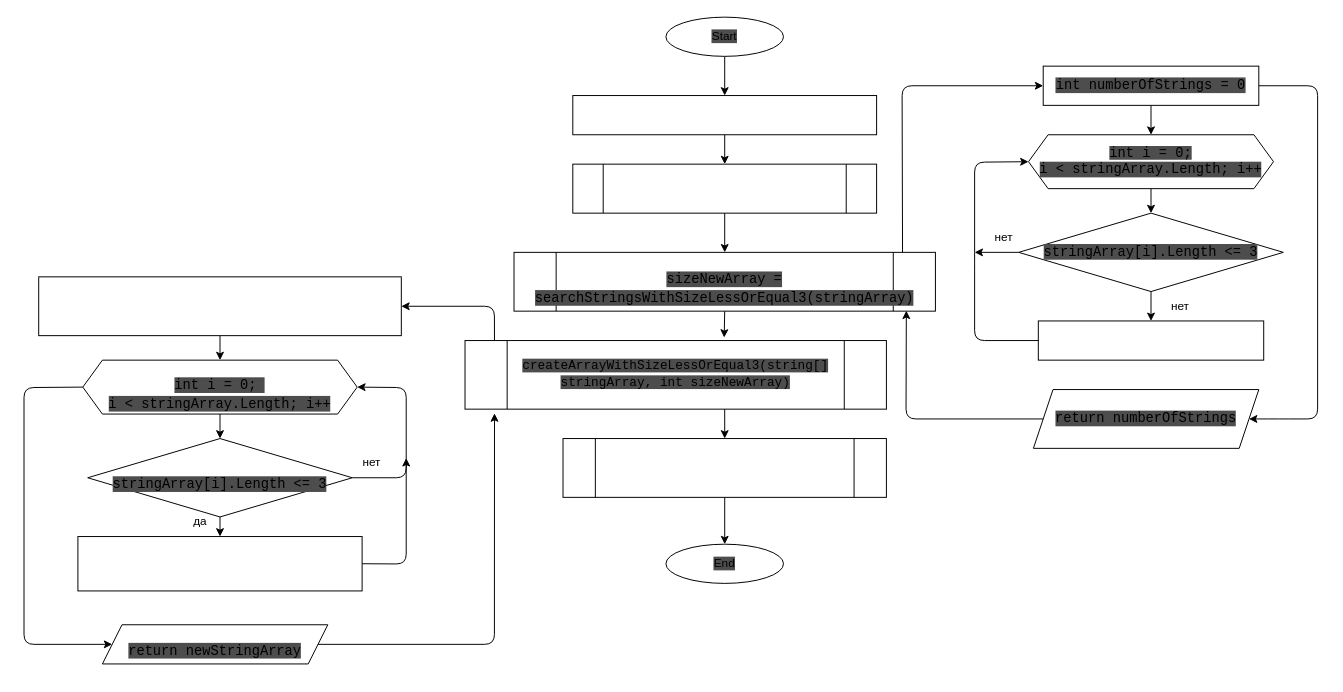
Some shapes in this 1343 by 692 pixel diagram are drawn without their labels. The centre of each missing label's shape, as x and y in pixels:
newStringArray[j] = stringArray[i]; j++;: (219,563)
numberOfStrings++: (1150,340)
PrintStringArray(newStringArray): (724,467)
PrintStringArray)string: (724,188)
string [] stringArray = {}: (724,115)
string[] newStringArray = new string[sizeNewArray]; int j = 0: (219,306)
